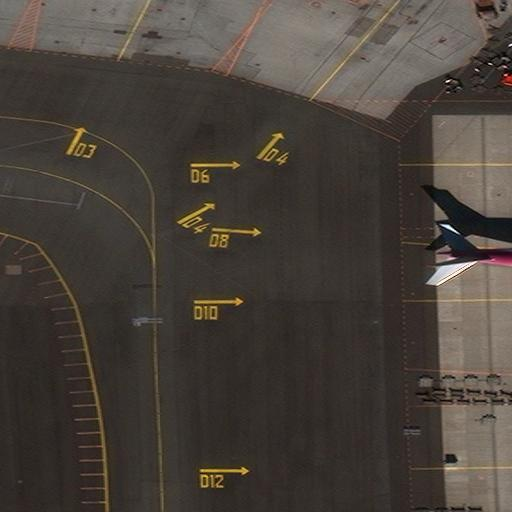Large Civil Transport: (437, 212, 511, 316)
